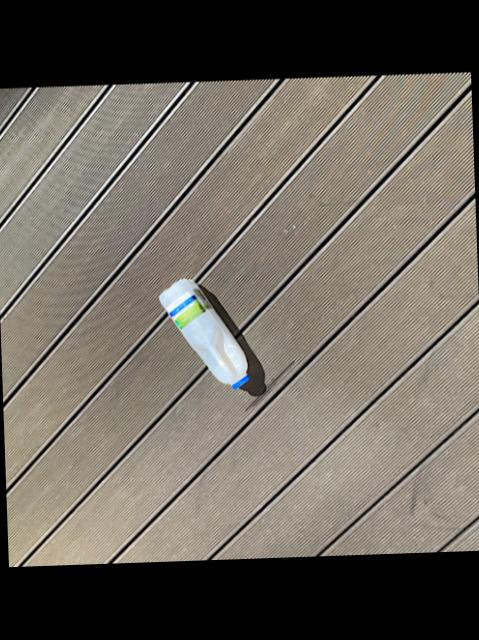plastic: (156, 278, 245, 388)
